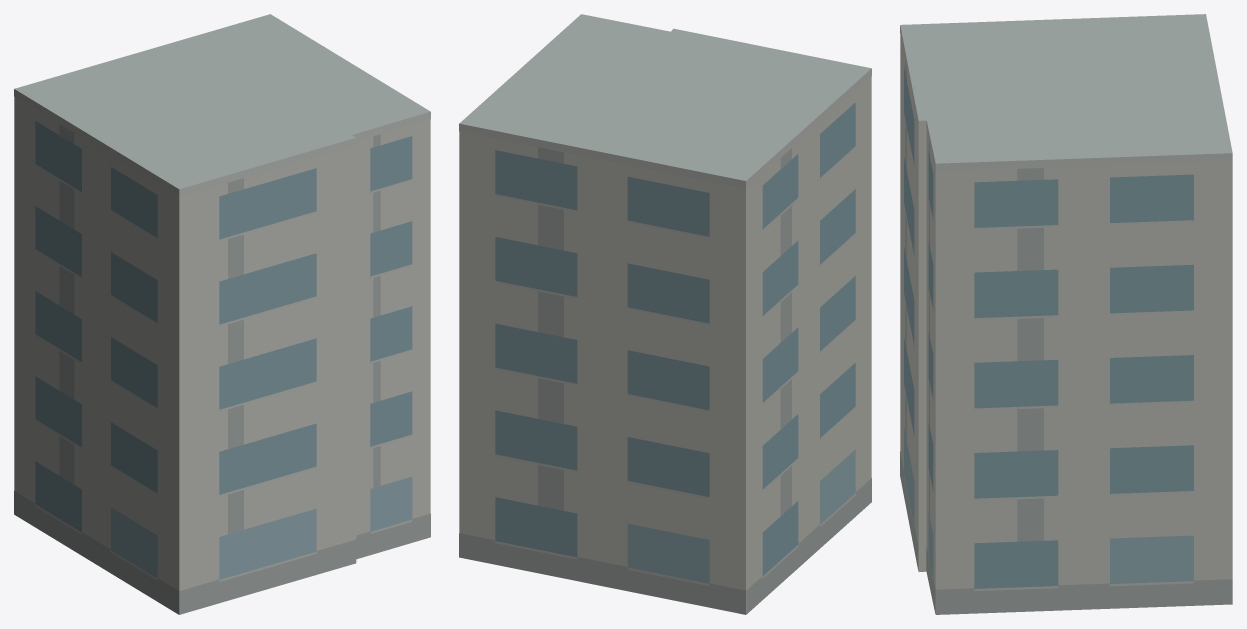
The model's file is survey-upis-32699129.glb.
3 renders of one model, left to right at view 1: azimuth 30°, elevation 25°; view 2: azimuth 150°, elevation 25°; view 3: azimuth 270°, elevation 25°, orthographic. The views are drawn at different scales.
Parts seen in each view (by area): view 1: survey-upis-32699129.tmp; view 2: survey-upis-32699129.tmp; view 3: survey-upis-32699129.tmp.
Boxes of the visible parts, <box> form: survey-upis-32699129.tmp: <box>14,14,430,614</box>; survey-upis-32699129.tmp: <box>459,14,871,614</box>; survey-upis-32699129.tmp: <box>900,14,1232,614</box>.
Bounding box in the file's own units: 9.61 × 13.5 × 9.02.
